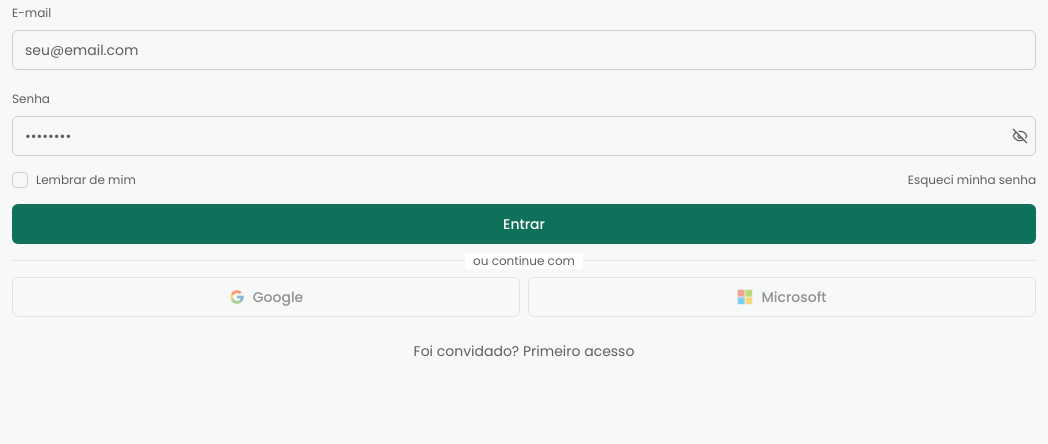
it: LoginForm › bloqueia submit com campos realmente vazios, mesmo com o botão habilitado por autofill
The width and height of the screenshot is (1048, 444).
Click the button "Entrar".
click(524, 224)  # box [12,204,1036,244]
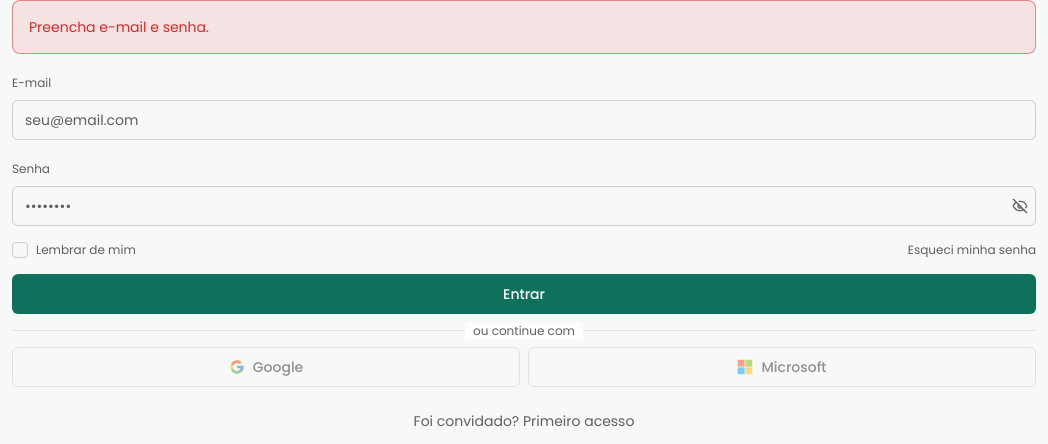
expect the text "Preencha e-mail e senha." is shown: met, box [29,17,209,37]
